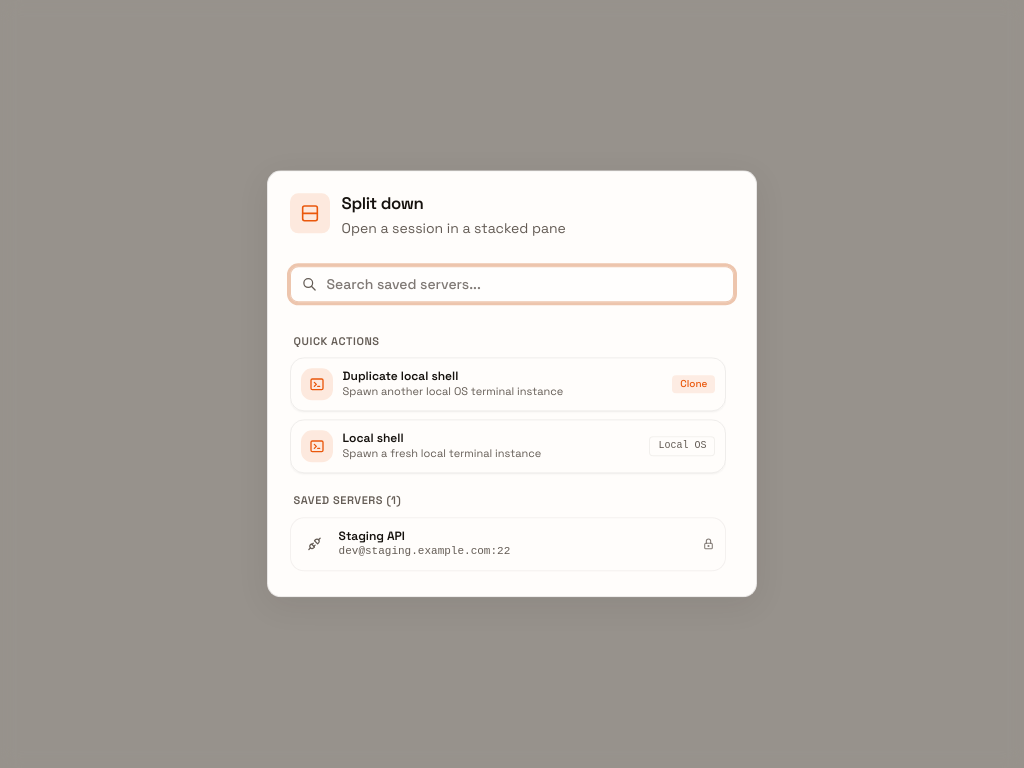
Test: SplitSessionDialog component › filters saved servers on search input
expect the heading "Split down" is shown: met, box [342,192,424,214]
Type "non-matching-server" into the field with placeholder "Search saved servers...".
click(512, 284); type("non-matching-server")  # box [290,266,734,302]
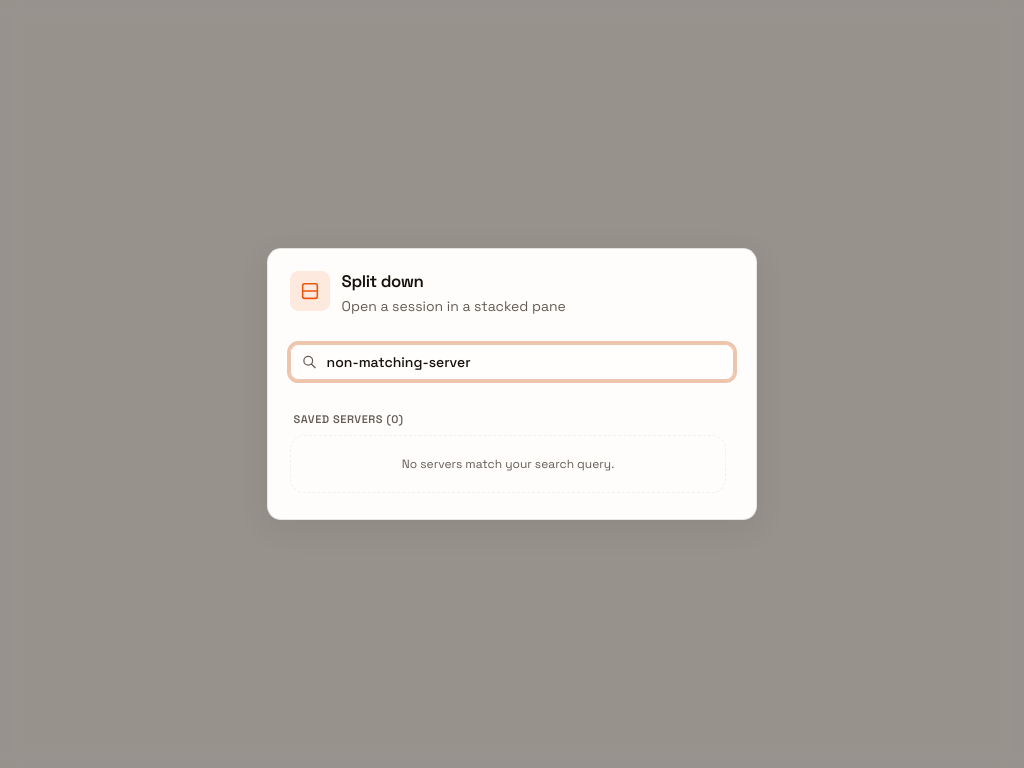
expect the button "Staging API" is gone: met
